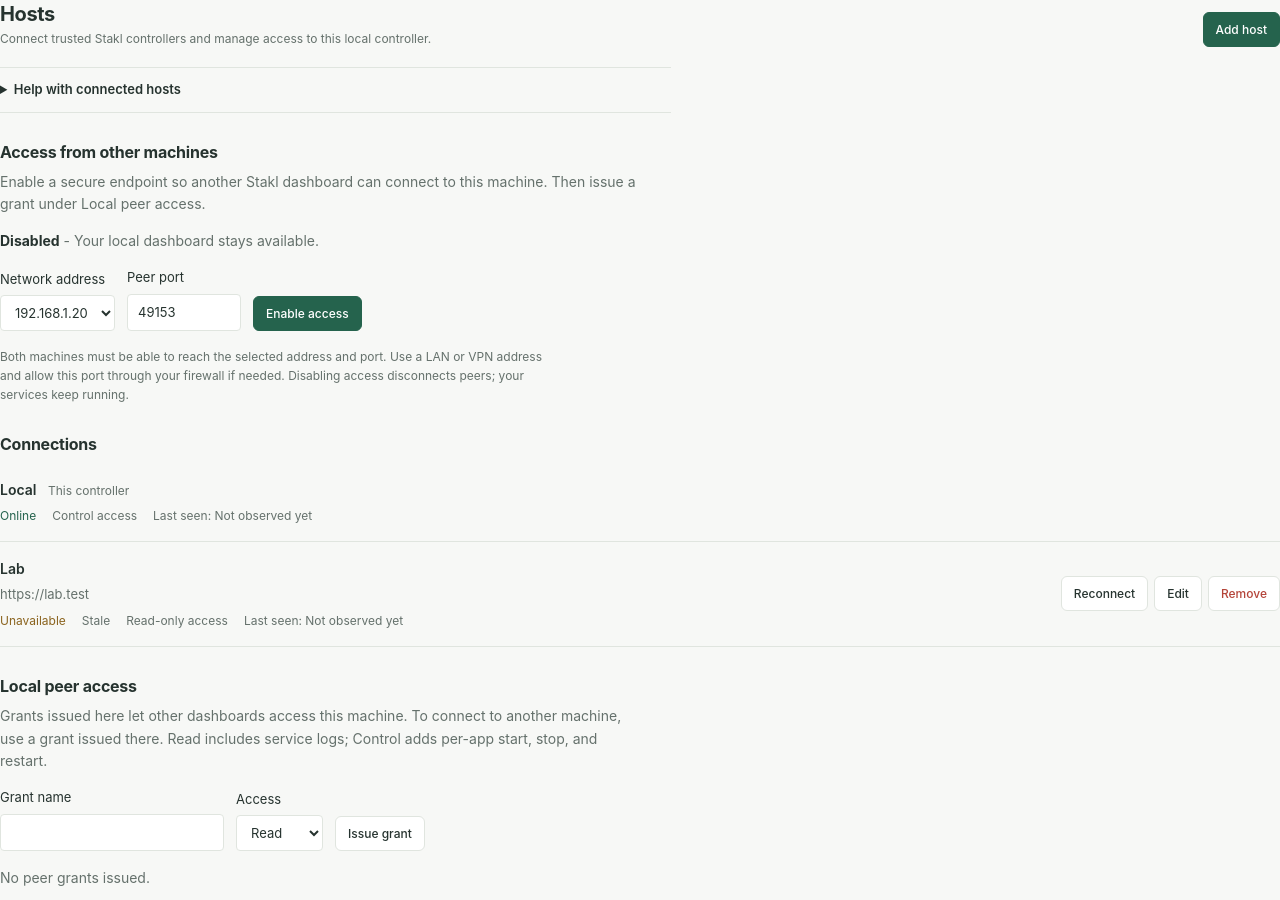
remove host does not operate services
Click the button with aria-label "Remove Lab": (1244, 594) [1208,576,1279,611]
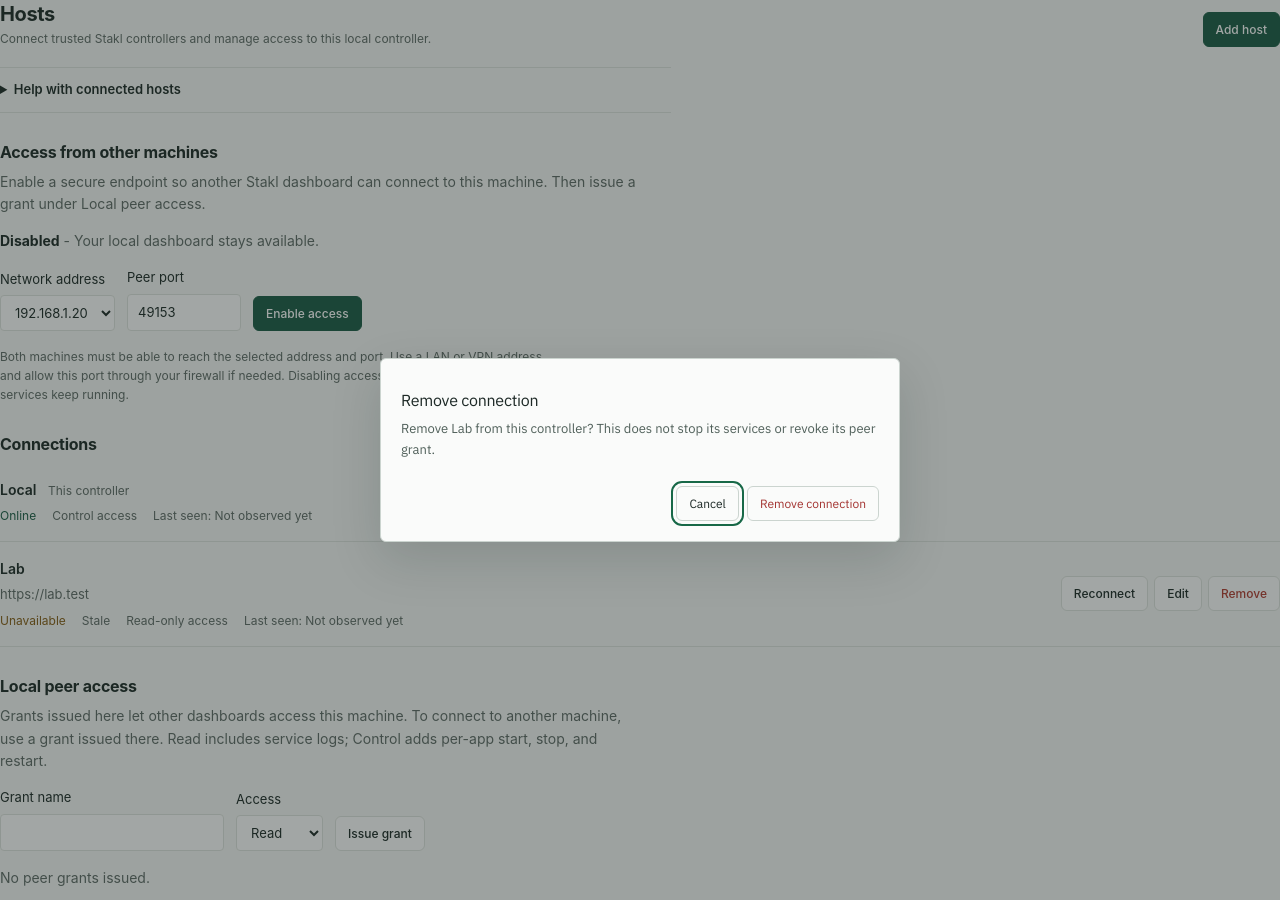
Result: the text "does not stop its services" is shown at [401,420,876,458]
Click the button "Remove connection": (813, 504) [747,486,879,521]
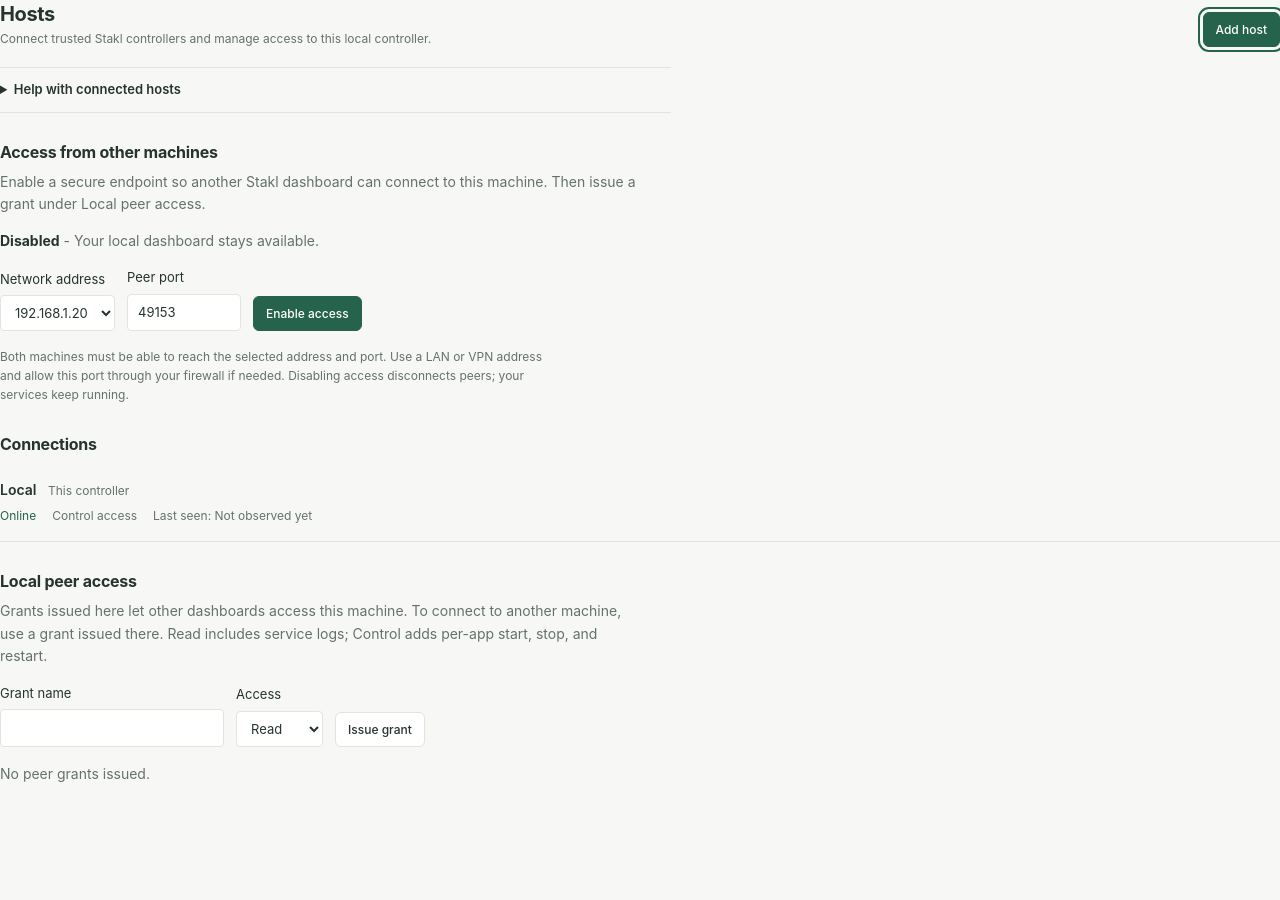
Expected: the button "Remove Local" is not shown
Result: the text "Remove Lab" is gone
